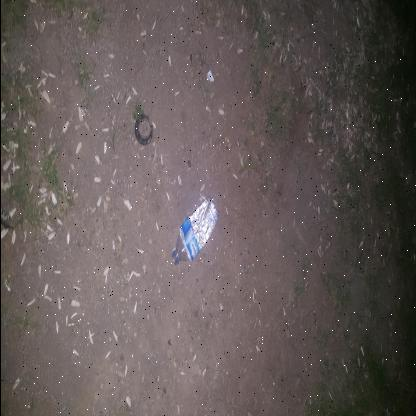plastic: (167, 195, 222, 266), (133, 115, 154, 143)
